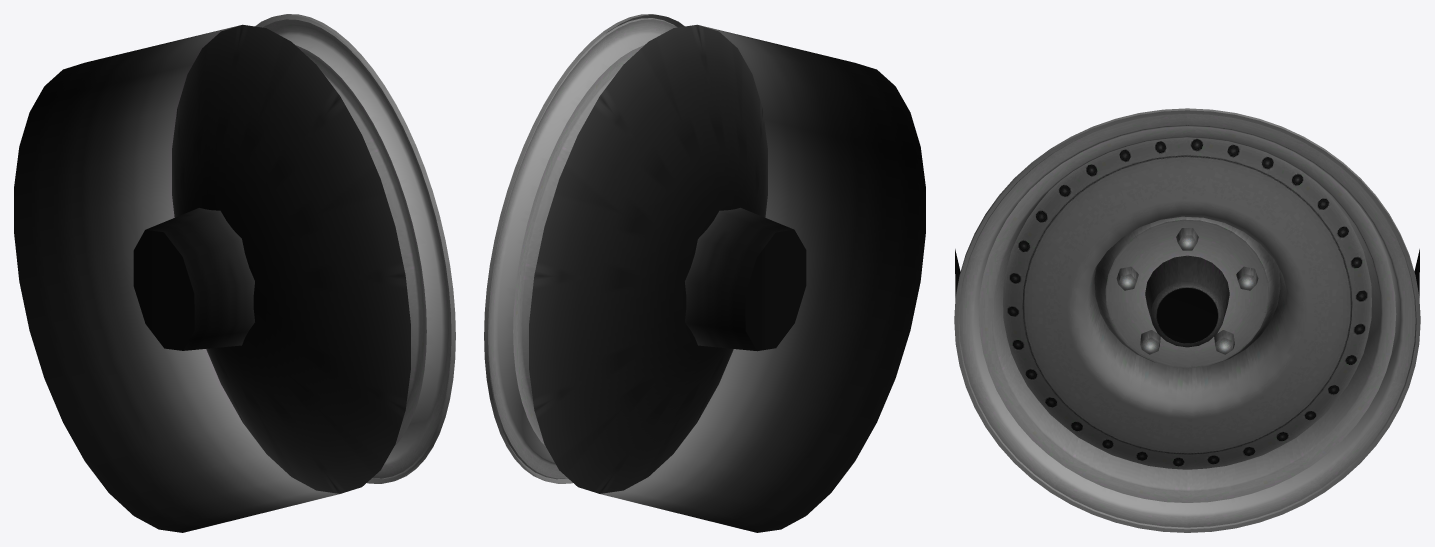
The model's file is wheel25.fbx.
The picture shows the model from 3 angles, left to right: view 1: azimuth 30°, elevation 25°; view 2: azimuth 150°, elevation 25°; view 3: azimuth 270°, elevation 25°; orthographic projection. The views are drawn at different scales.
Visible parts, largest first — view 1: cen_autodragiii_wheel_wheel_inner_rim_, wheel_rim, cen_autodragiii_wheel_wheel_rim_; view 2: cen_autodragiii_wheel_wheel_inner_rim_, wheel_rim, cen_autodragiii_wheel_wheel_rim_; view 3: cen_autodragiii_wheel_wheel_rim_, wheel_rim.
Part boxes in pixels (<box>): cen_autodragiii_wheel_wheel_inner_rim_: <box>14,24,410,532</box>; wheel_rim: <box>262,14,455,481</box>; cen_autodragiii_wheel_wheel_rim_: <box>255,15,435,483</box>; cen_autodragiii_wheel_wheel_inner_rim_: <box>529,24,925,532</box>; wheel_rim: <box>484,14,677,481</box>; cen_autodragiii_wheel_wheel_rim_: <box>490,15,684,483</box>; cen_autodragiii_wheel_wheel_rim_: <box>1003,137,1397,469</box>; wheel_rim: <box>954,108,1420,532</box>.
Bounding box in the file's own units: 0.229 × 0.4724 × 0.4713.
Materials: 1 (1 with a texture image).
